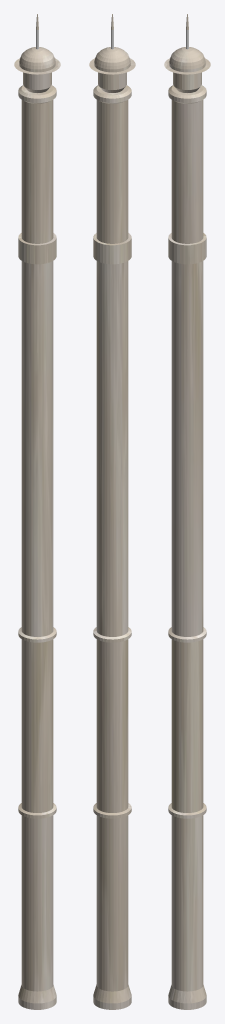
Rendered from Short Pillar.fbx.
3 renders of one model, left to right at view 1: azimuth 90°, elevation 25°; view 2: azimuth 150°, elevation 25°; view 3: azimuth 270°, elevation 25°, orthographic.
Visible parts, largest first — view 1: Cylinder.002; view 2: Cylinder.002; view 3: Cylinder.002.
Boxes of the visible parts, x1,y1,x2,y2 form: Cylinder.002: [14, 14, 60, 1009]; Cylinder.002: [89, 14, 135, 1009]; Cylinder.002: [164, 14, 210, 1009].
Size of the model in its own units: 102 by 2379 by 102.
Materials: 2 (1 with a texture image).
